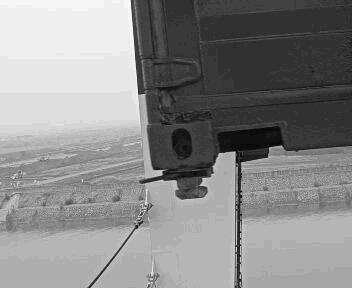twist_lock_1: (152, 159, 221, 208)
